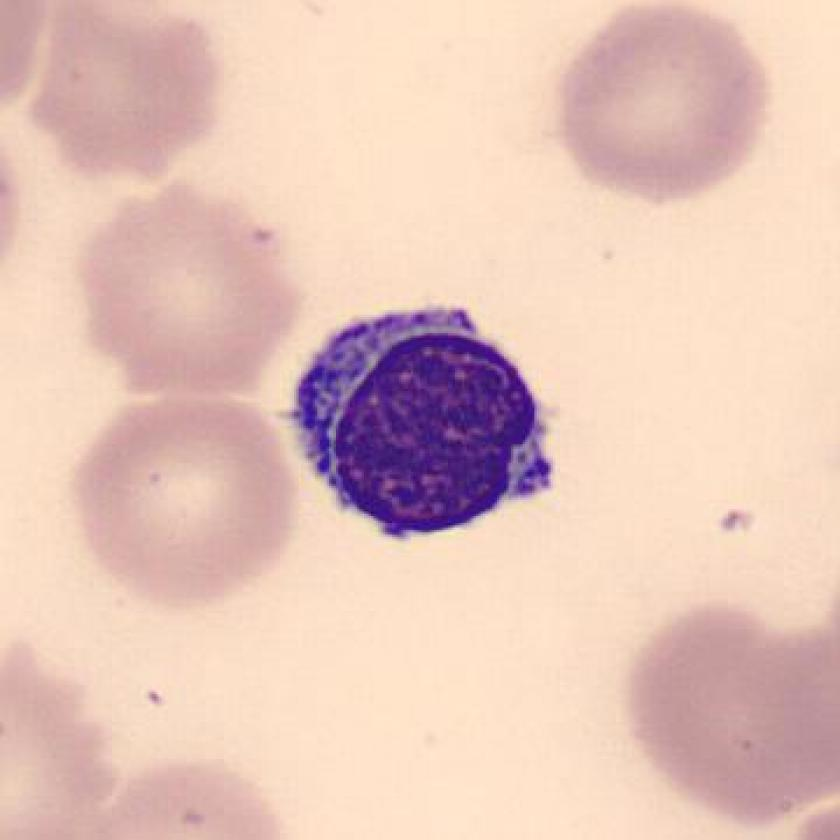lymphocyte: (274, 269, 577, 568)
